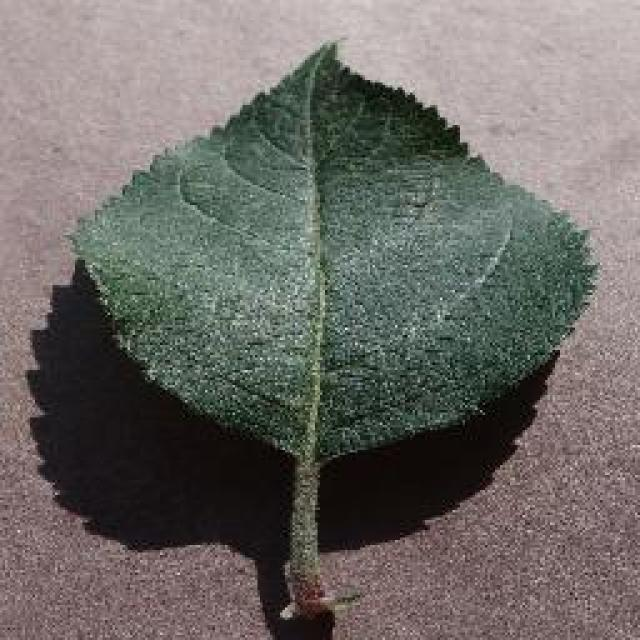apple healthy: (62, 38, 600, 618)
